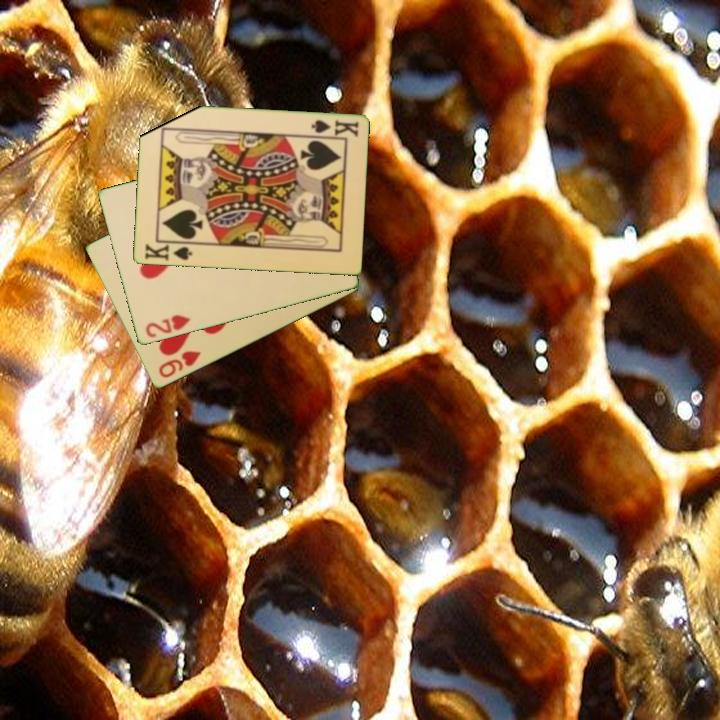2h: (142, 311, 193, 341)
9h: (155, 347, 203, 381)
Ks: (141, 239, 196, 264), (308, 116, 361, 140)
